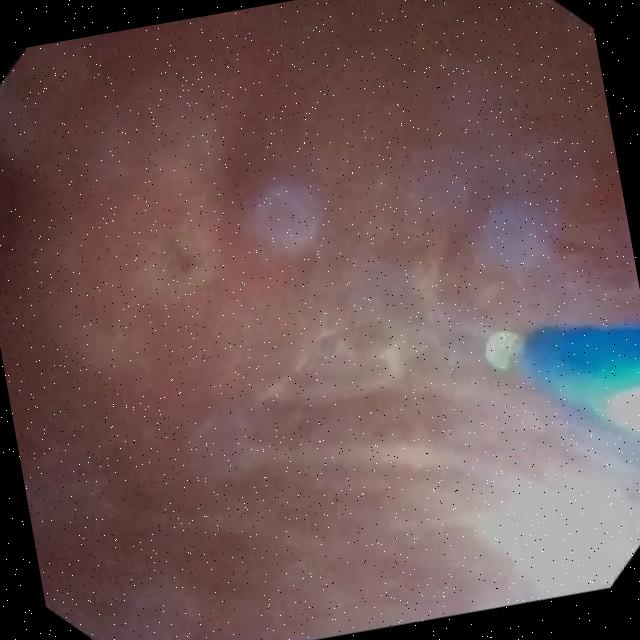laser-fibre: (487, 330, 529, 372)
